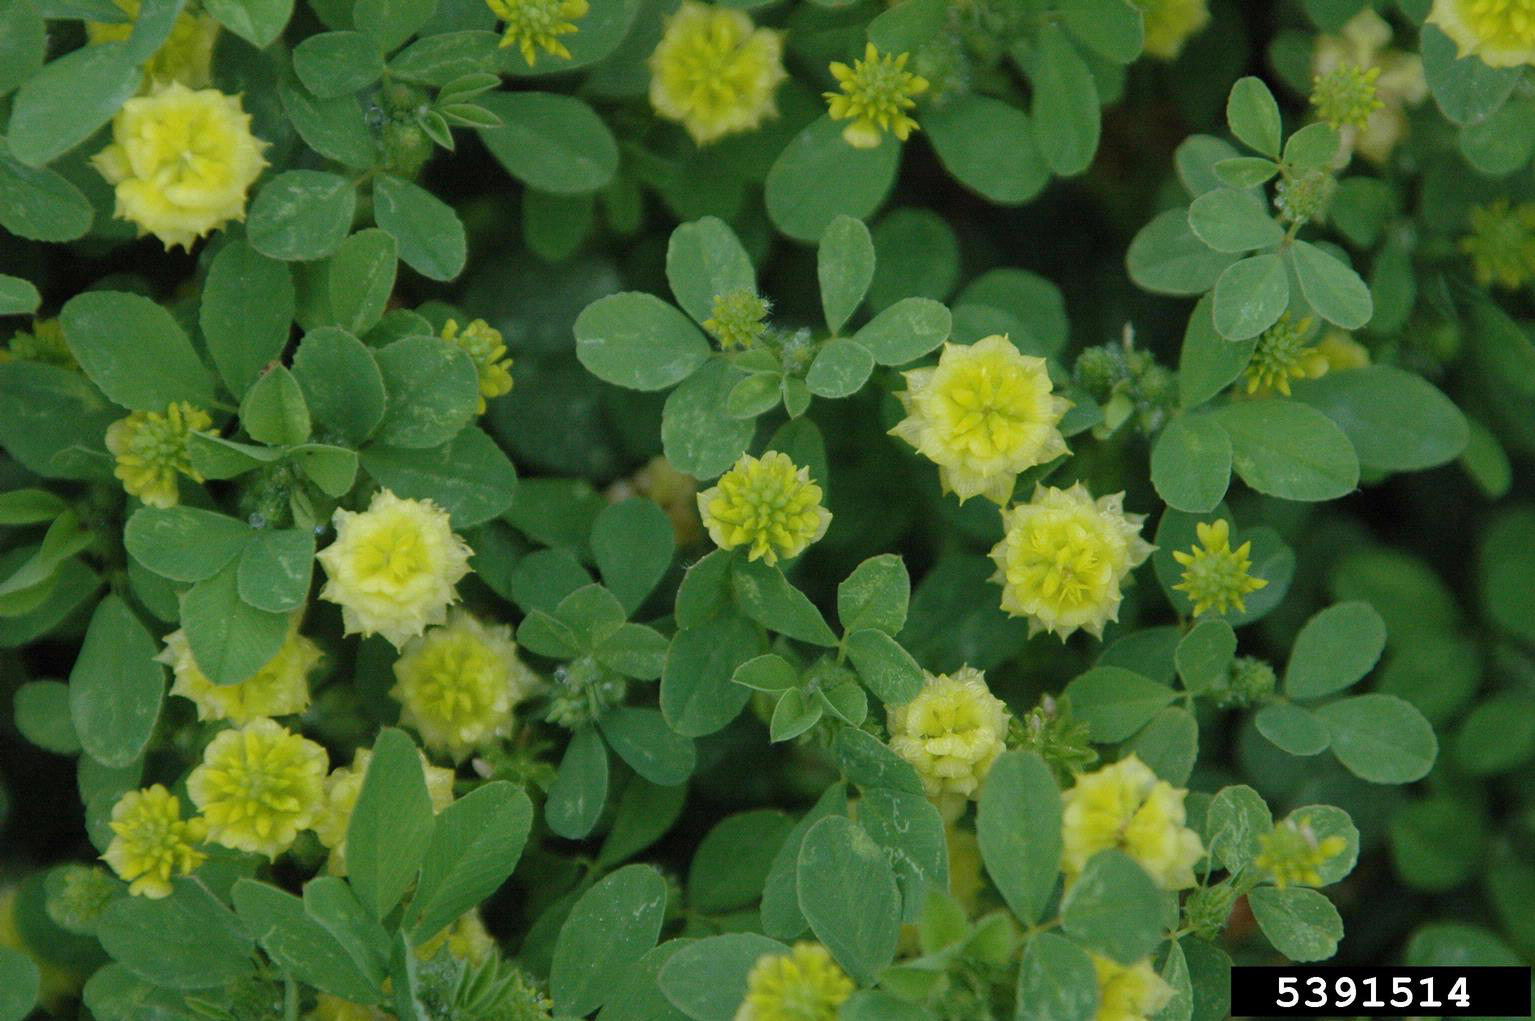clover: (1, 2, 1514, 961)
